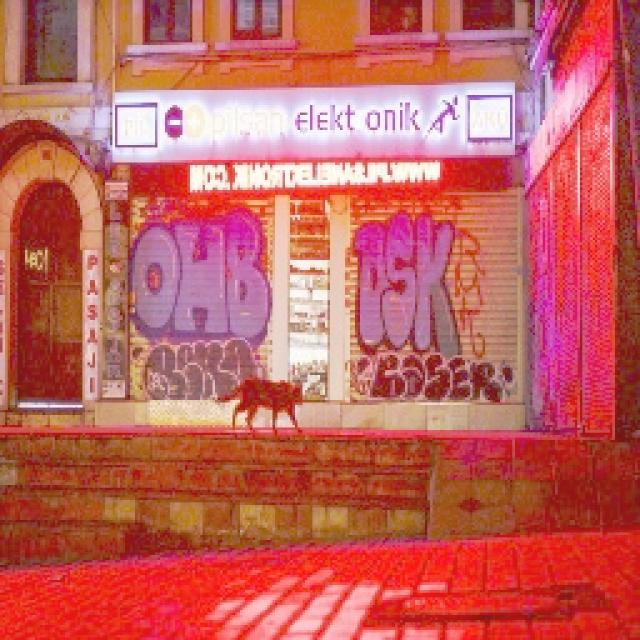cat: (220, 361, 310, 434)
